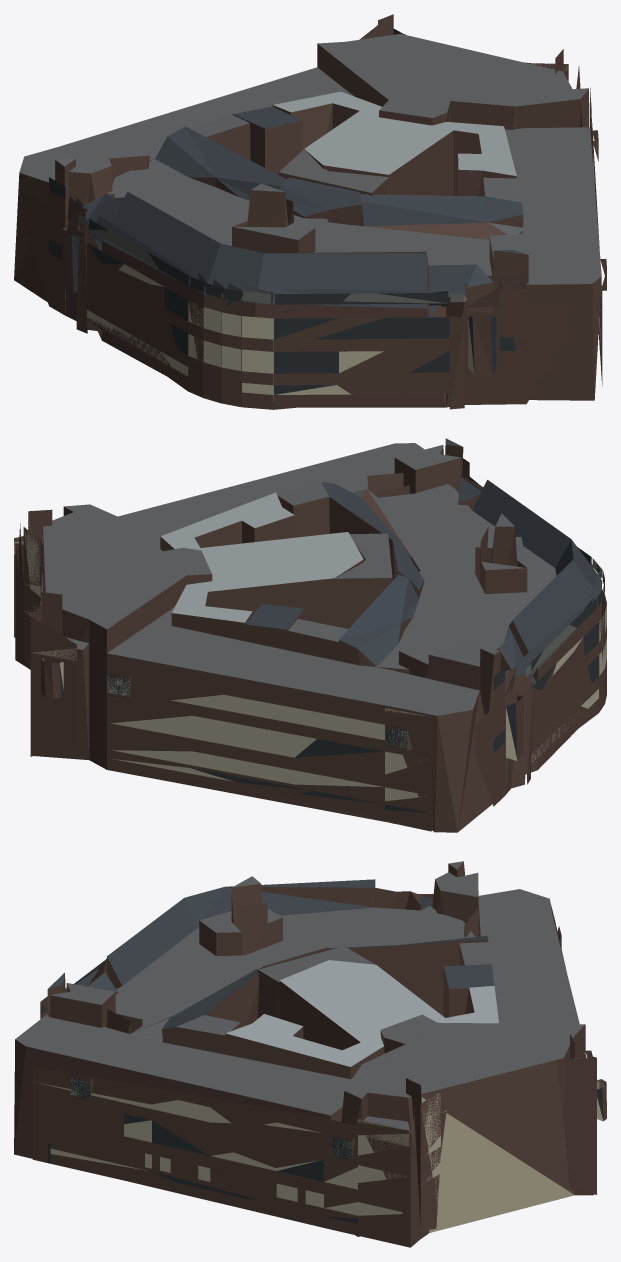
File: het-sieraad.lod2.glb
3 renders of one model, top to bottom at view 1: azimuth 30°, elevation 25°; view 2: azimuth 150°, elevation 25°; view 3: azimuth 270°, elevation 25°, orthographic. The views are drawn at different scales.
Parts seen in each view (by area): view 1: lod2; view 2: lod2; view 3: lod2.
Boxes of the visible parts, box(x1,y1,x2,y2) form: lod2: box(14, 14, 606, 409); lod2: box(14, 438, 606, 832); lod2: box(14, 861, 606, 1247).
Size of the model in its own units: 72.61 by 23.69 by 73.95.
